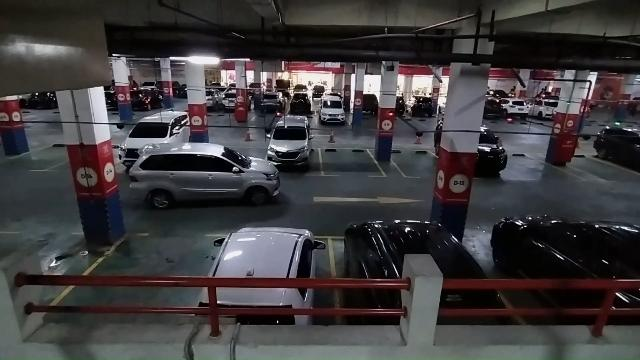empty: (82, 232, 220, 316), (318, 146, 379, 178), (390, 149, 438, 179)
occupied: (329, 232, 466, 326), (211, 232, 335, 324), (263, 128, 321, 176)
